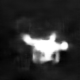plane: (21, 30, 73, 64)
